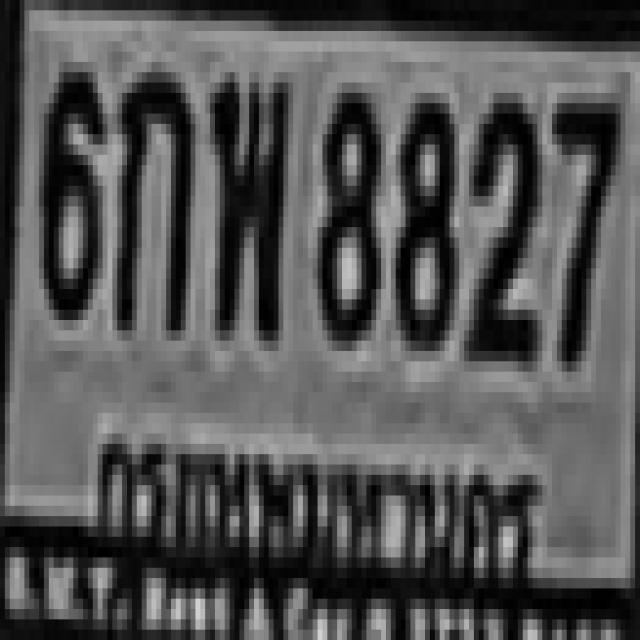10GorGai: (112, 62, 190, 330)
2: (462, 88, 535, 356)
39PhorPan: (210, 72, 283, 330)
6: (39, 62, 98, 310)
7: (550, 93, 618, 361)
8: (313, 82, 376, 340), (391, 82, 449, 340)
Bangkok: (86, 405, 549, 603)
